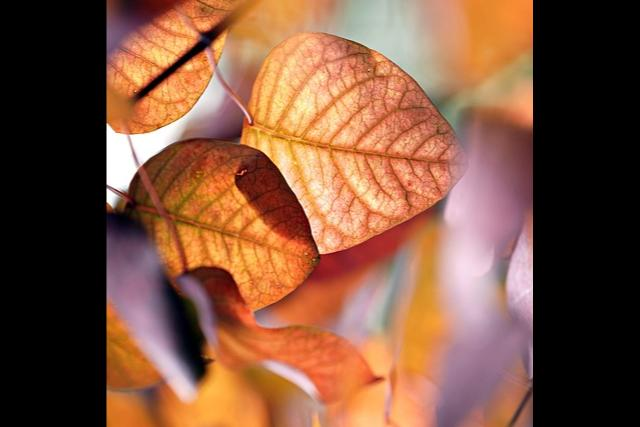Non_Gorille: (112, 0, 508, 427)
